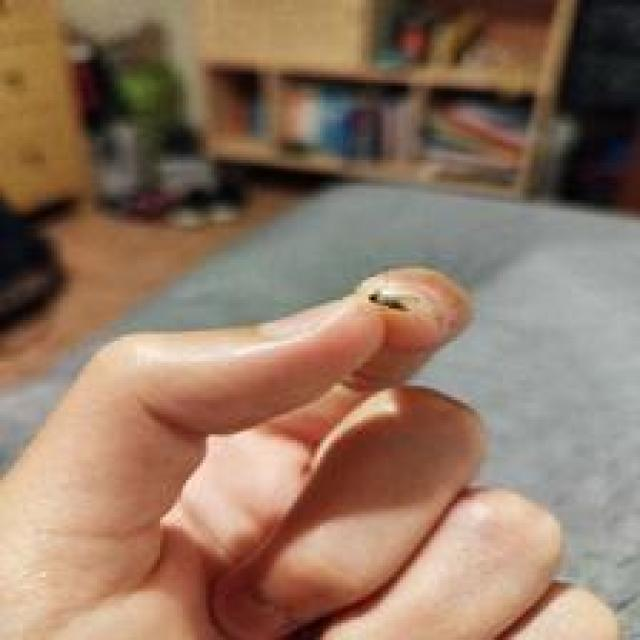Culex: (0, 177, 71, 342)
